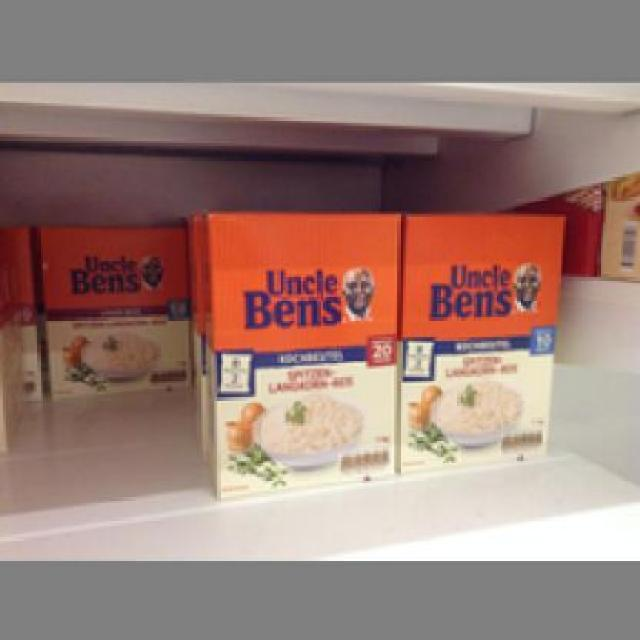Rice: (200, 208, 403, 494), (400, 208, 563, 468), (37, 219, 186, 395)
